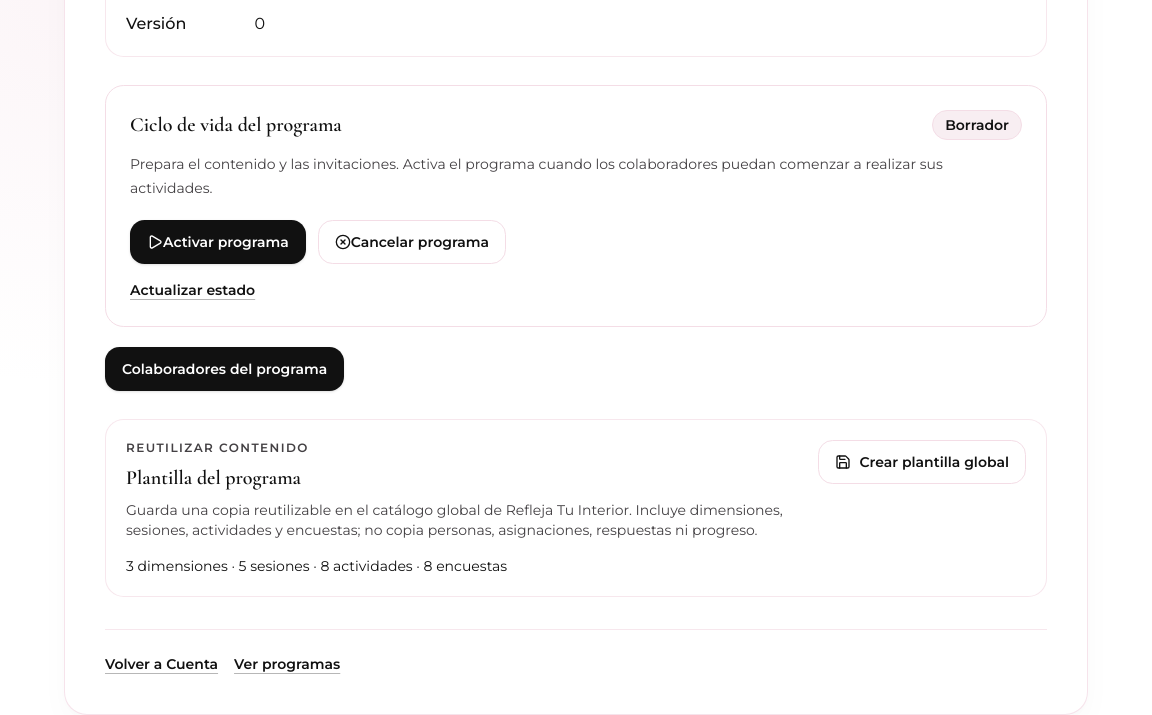
Test: saves an eligible program as an organization template
(page scrolled)
Click the button "Crear plantilla global" at (922, 462), box x1=818 y1=440 x2=1026 y2=484
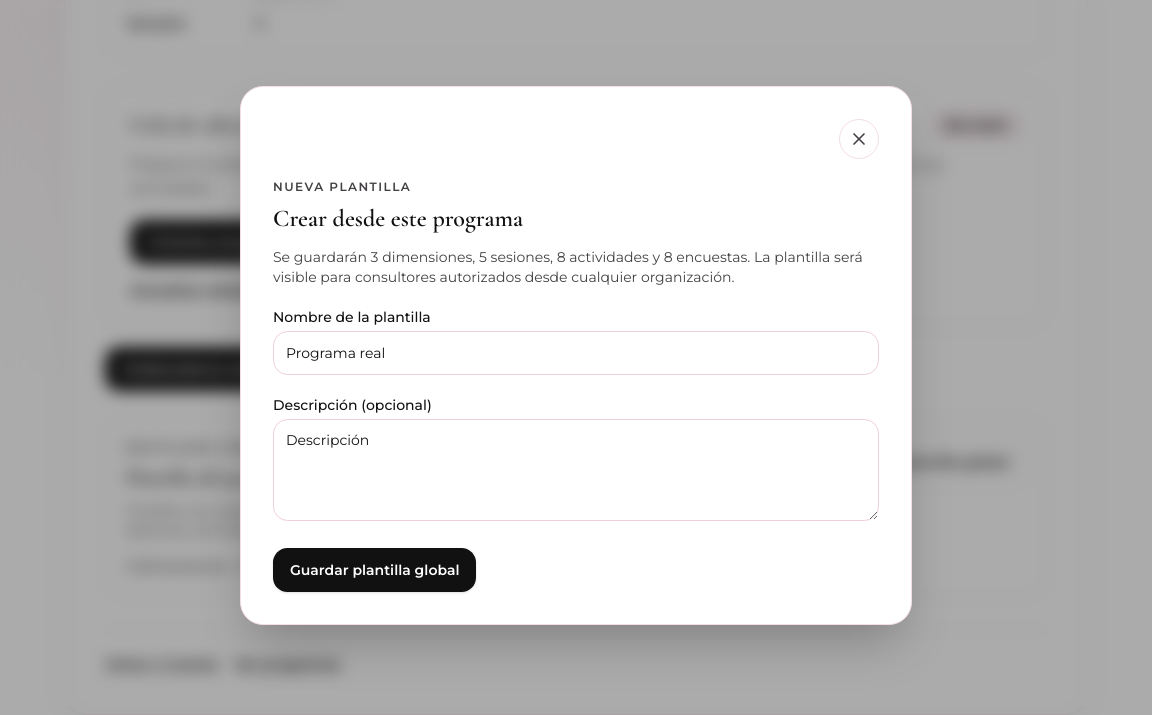
Replace the text in the field labelled "Nombre de la plantilla" with "Plantilla nueva" at (576, 352), box x1=273 y1=330 x2=879 y2=374
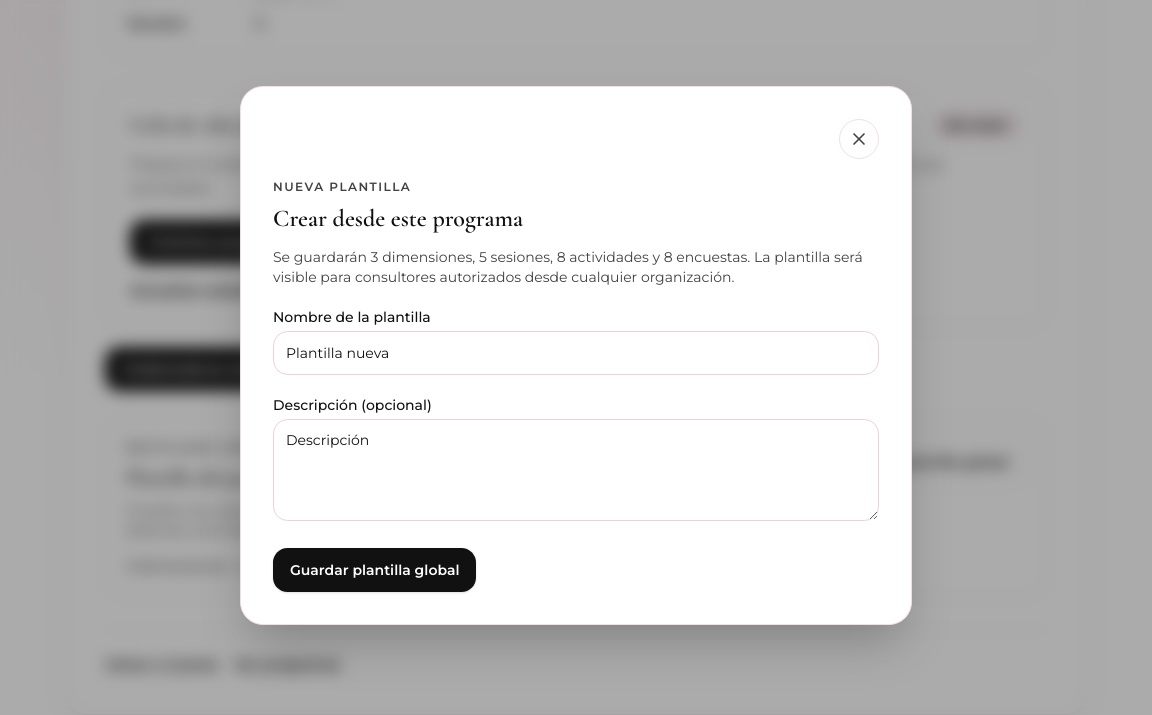
Submit the form named "Crear plantilla", box x1=273 y1=306 x2=879 y2=592
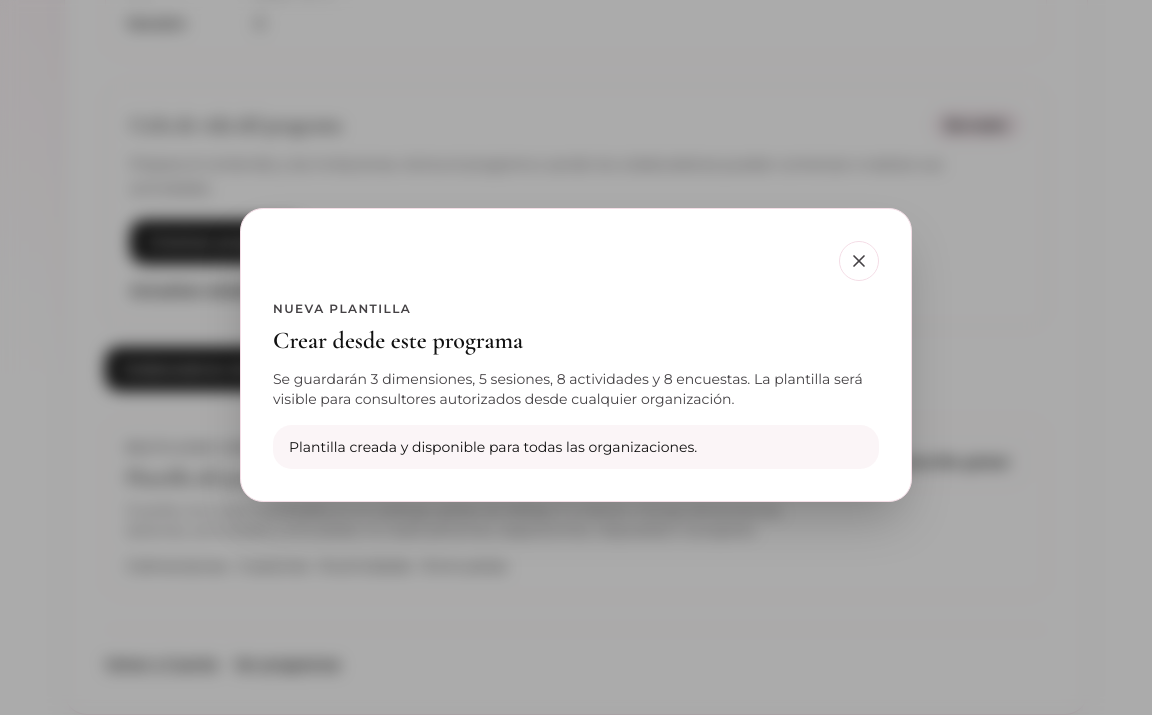
Expected: the text "Plantilla creada y disponible para todas las organizaciones." is shown, x1=273 y1=425 x2=879 y2=469
